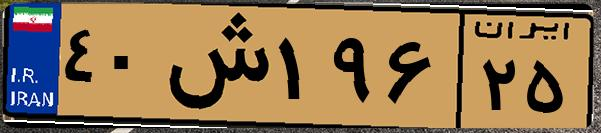0: (110, 28, 158, 98)
1: (270, 28, 330, 110)
2: (475, 38, 525, 113)
4: (57, 26, 110, 100)
5: (525, 38, 570, 115)
6: (385, 28, 445, 110)
9: (330, 28, 385, 110)
ش: (158, 12, 270, 120)
